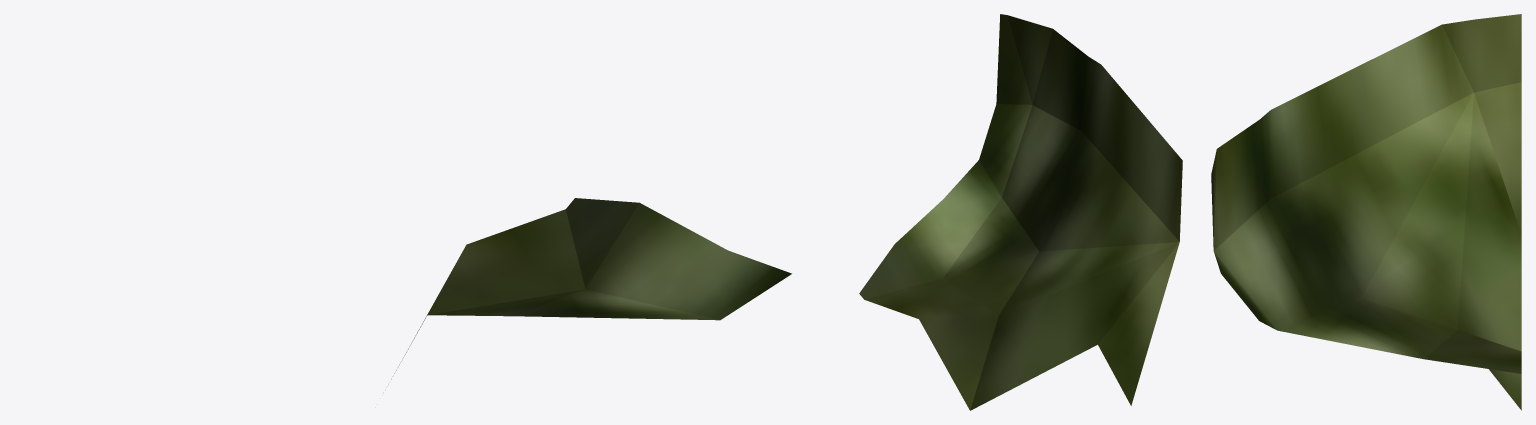
3 renders of one model, left to right at view 1: azimuth 30°, elevation 25°; view 2: azimuth 150°, elevation 25°; view 3: azimuth 270°, elevation 25°, orthographic. The views are drawn at different scales.
Bounding box in the file's own units: 0.3242 × 0.2671 × 0.2573.
Materials: 1 (1 with a texture image).
